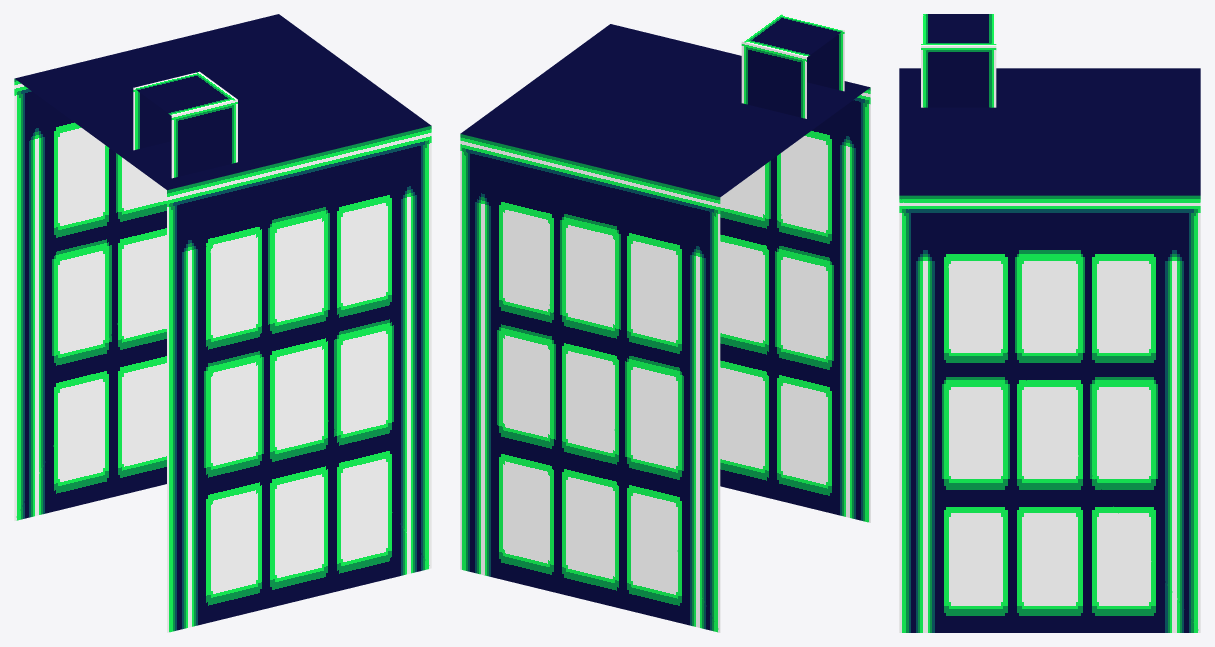
Rendered from NeonCityStage.glb.
3 views of the same model, side by side, from view 1: azimuth 30°, elevation 25°; view 2: azimuth 150°, elevation 25°; view 3: azimuth 270°, elevation 25° (orthographic).
Visible parts, largest first — view 1: BuildingStage; view 2: BuildingStage; view 3: BuildingStage.
Boxes of the visible parts, x1,y1,x2,y2 form: BuildingStage: (14,14,431,632); BuildingStage: (460,14,870,632); BuildingStage: (899,14,1200,632).
Bounding box in the file's own units: 20 × 36.52 × 20.
2 materials, 2 textured.
